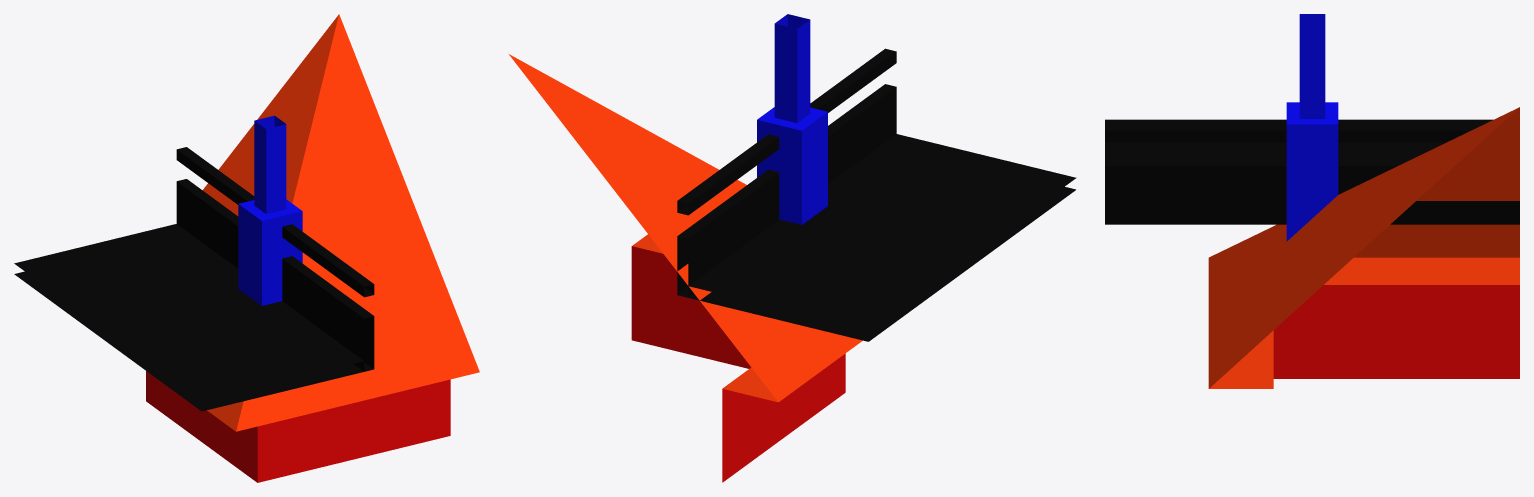
Rendered from None_S_E_E_E_P_P_E_E_BigStrut.fbx.
3 views of the same model, side by side, from view 1: azimuth 30°, elevation 25°; view 2: azimuth 150°, elevation 25°; view 3: azimuth 270°, elevation 25° (orthographic). The views are drawn at different scales.
Visible parts, largest first — view 1: None_S_E_E_E_P_P_E_E_BigStrut; view 2: None_S_E_E_E_P_P_E_E_BigStrut; view 3: None_S_E_E_E_P_P_E_E_BigStrut.
Part boxes in pixels (box(x1,y1,x2,y2)): None_S_E_E_E_P_P_E_E_BigStrut: box(14, 14, 479, 482); None_S_E_E_E_P_P_E_E_BigStrut: box(509, 14, 1076, 482); None_S_E_E_E_P_P_E_E_BigStrut: box(1105, 14, 1519, 388).
Size of the model in its own units: 100 by 100 by 100.
